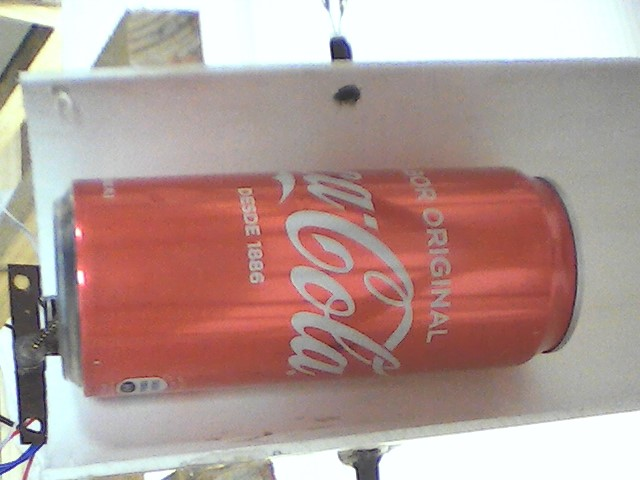lata: (48, 163, 592, 407)
